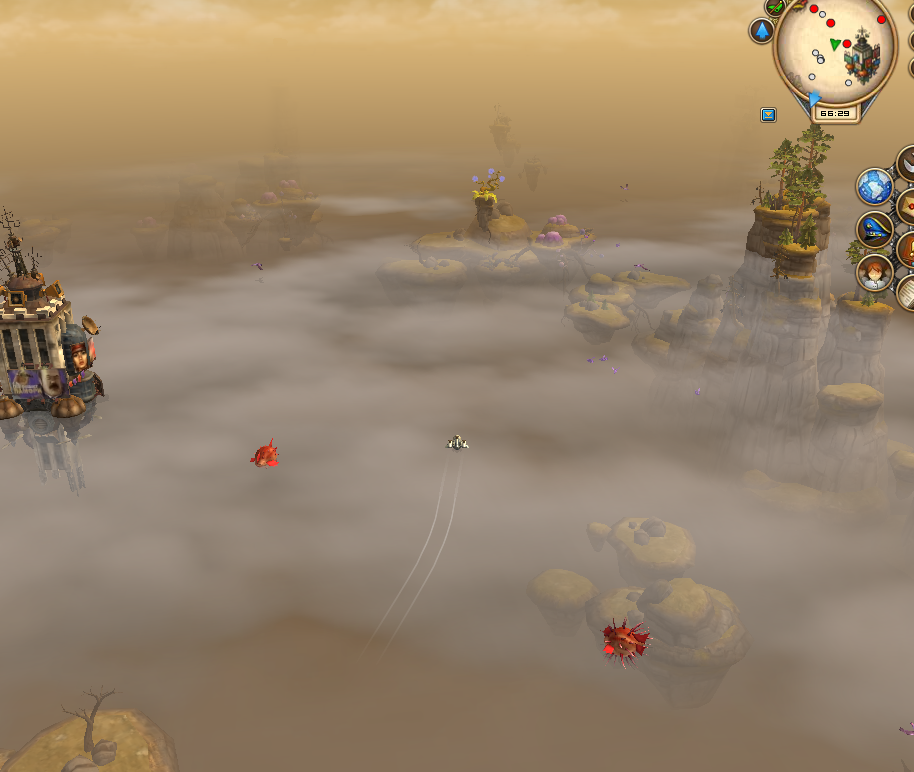dandelion-full: (467, 162, 508, 226)
